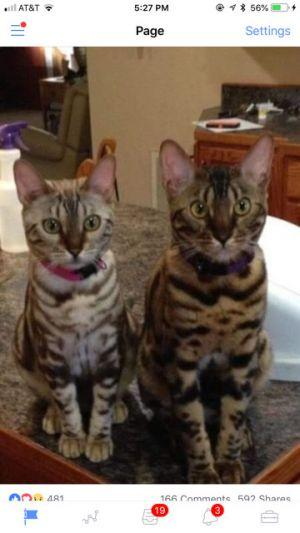bengal: (153, 133, 284, 276)
